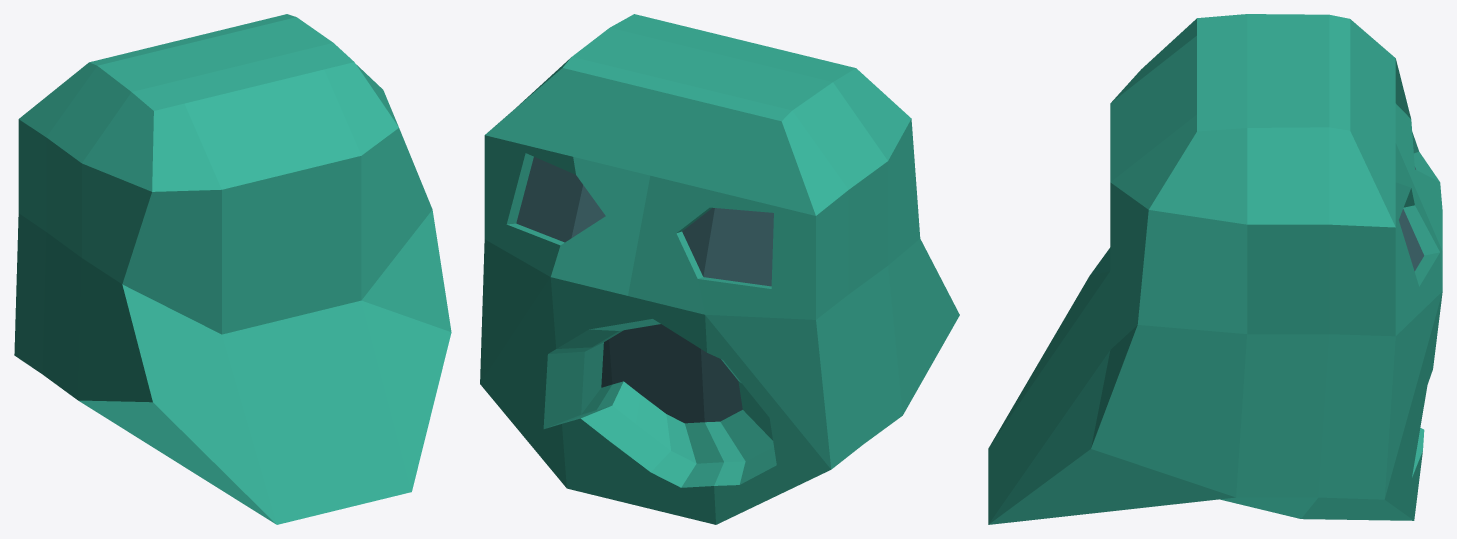
Rendered from Ghost.obj.
3 renders of one model, left to right at view 1: azimuth 30°, elevation 25°; view 2: azimuth 150°, elevation 25°; view 3: azimuth 270°, elevation 25°, orthographic. The views are drawn at different scales.
Visible parts, largest first — view 1: Ghost_Cube.029; view 2: Ghost_Cube.029; view 3: Ghost_Cube.029.
Part boxes in pixels (x1,y1,x2,y2): Ghost_Cube.029: [14, 14, 451, 524]; Ghost_Cube.029: [480, 14, 959, 524]; Ghost_Cube.029: [988, 14, 1442, 524].
Bounding box in the file's own units: 1.18 × 1.27 × 1.26.
